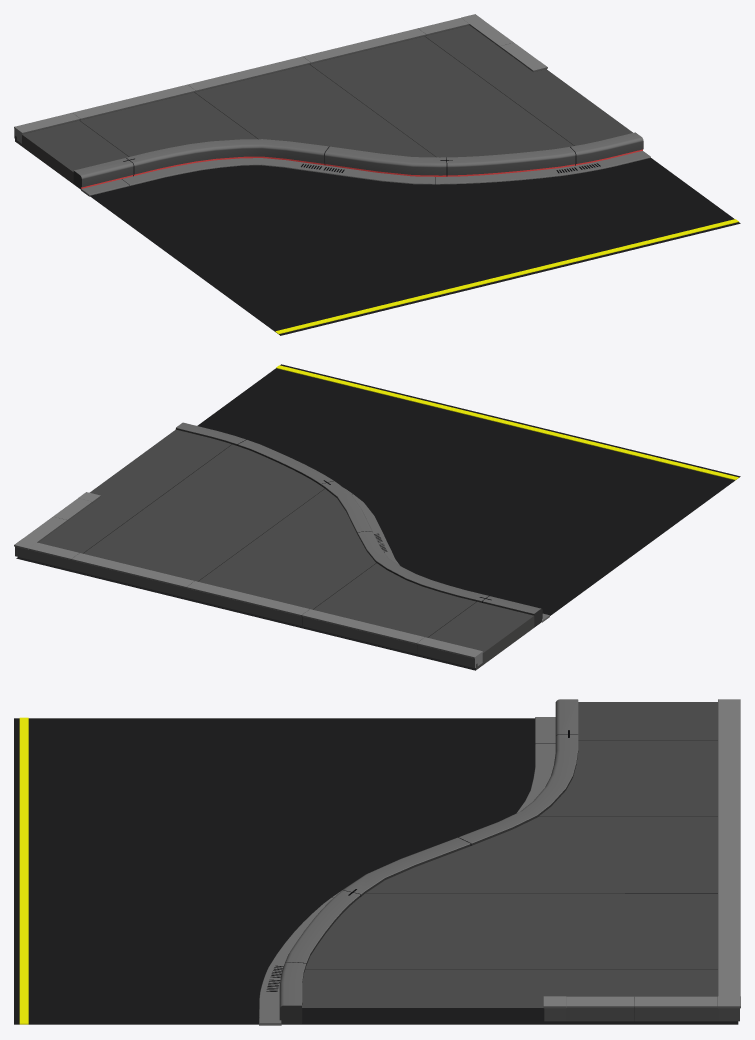
3 views of the same model, one above another, from view 1: azimuth 30°, elevation 25°; view 2: azimuth 150°, elevation 25°; view 3: azimuth 270°, elevation 25° (orthographic). The views are drawn at different scales.
Parts seen in each view (by area): view 1: W_R_001_8x8_BA; view 2: W_R_001_8x8_BA; view 3: W_R_001_8x8_BA.
Boxes of the visible parts, bbox=[...] form: W_R_001_8x8_BA: bbox=[14, 14, 740, 335]; W_R_001_8x8_BA: bbox=[14, 364, 740, 670]; W_R_001_8x8_BA: bbox=[14, 699, 740, 1025].
Bounding box in the file's own units: 8.02 × 0.2474 × 8.03.
